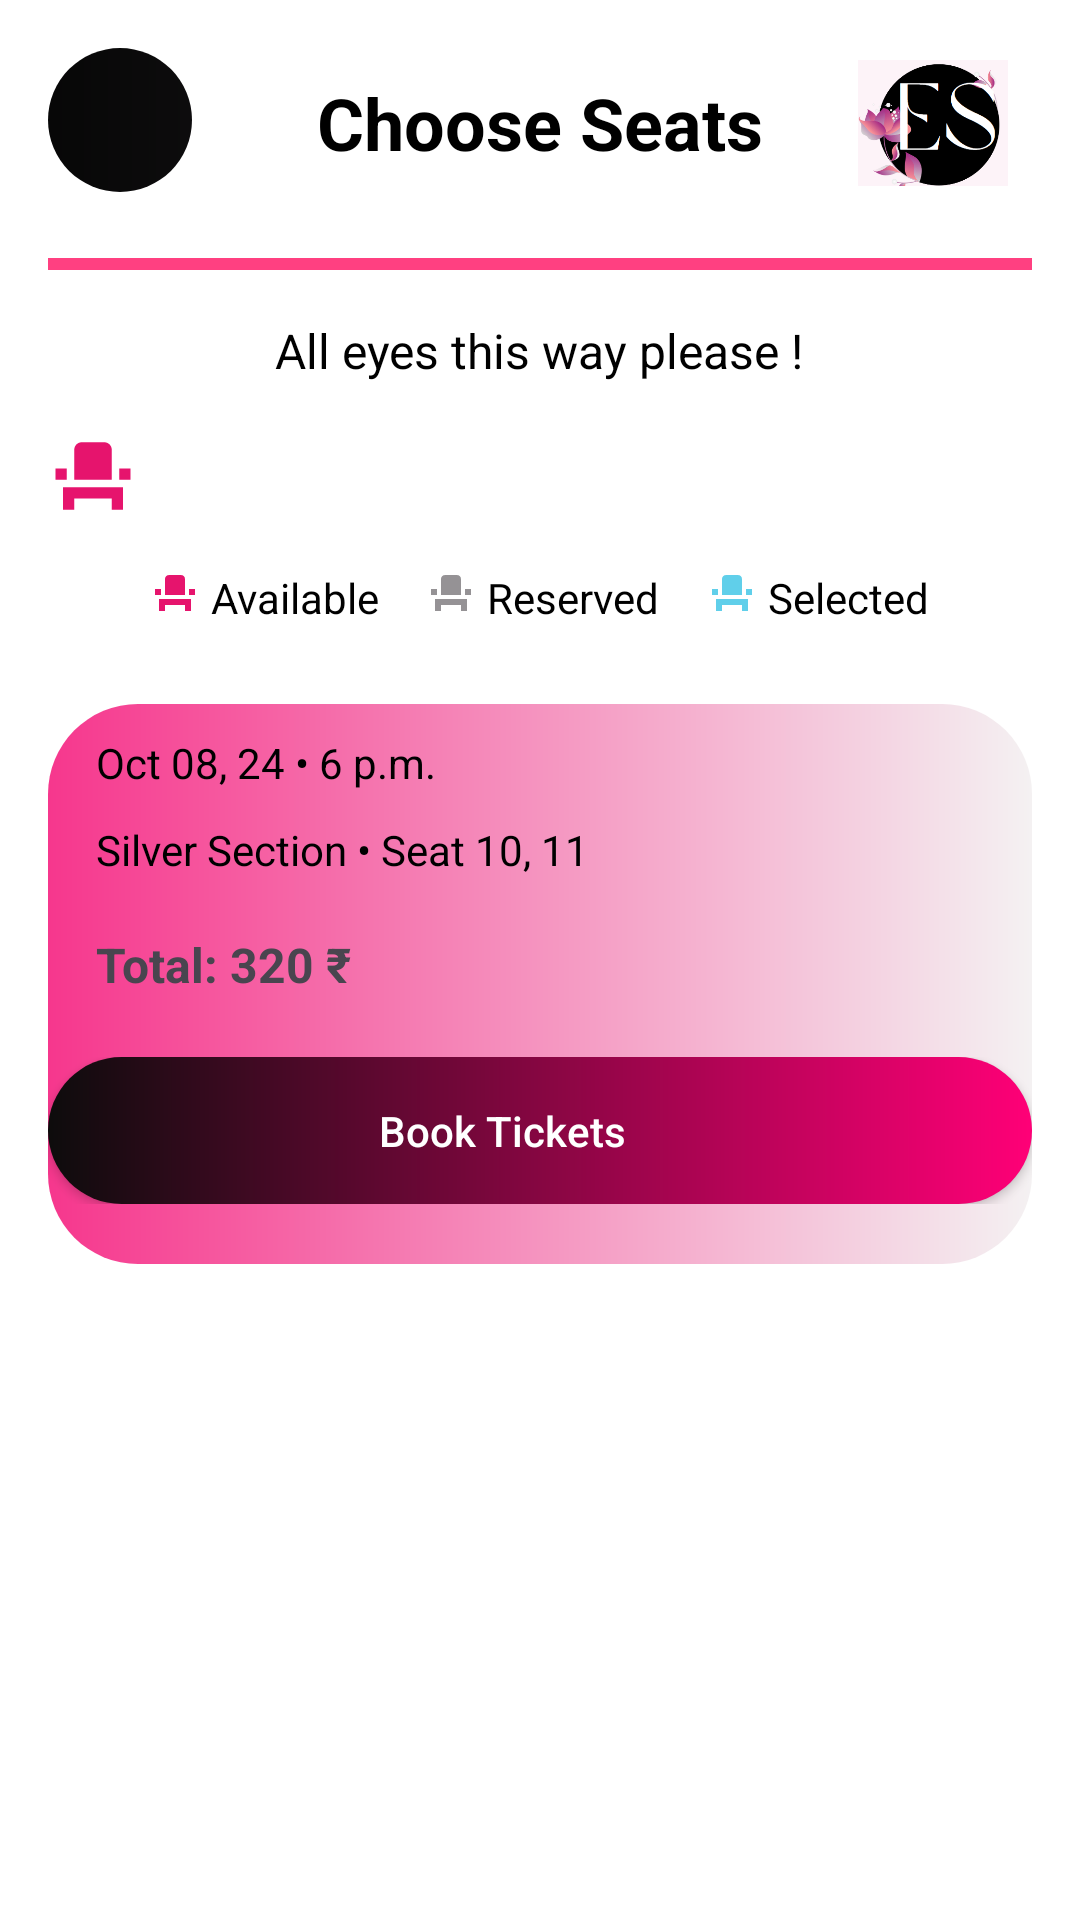

Where icons sit on this 1080px x 1920px app screen, as (x1, y1, x2, y2):
seat select: (712, 575, 752, 611)
